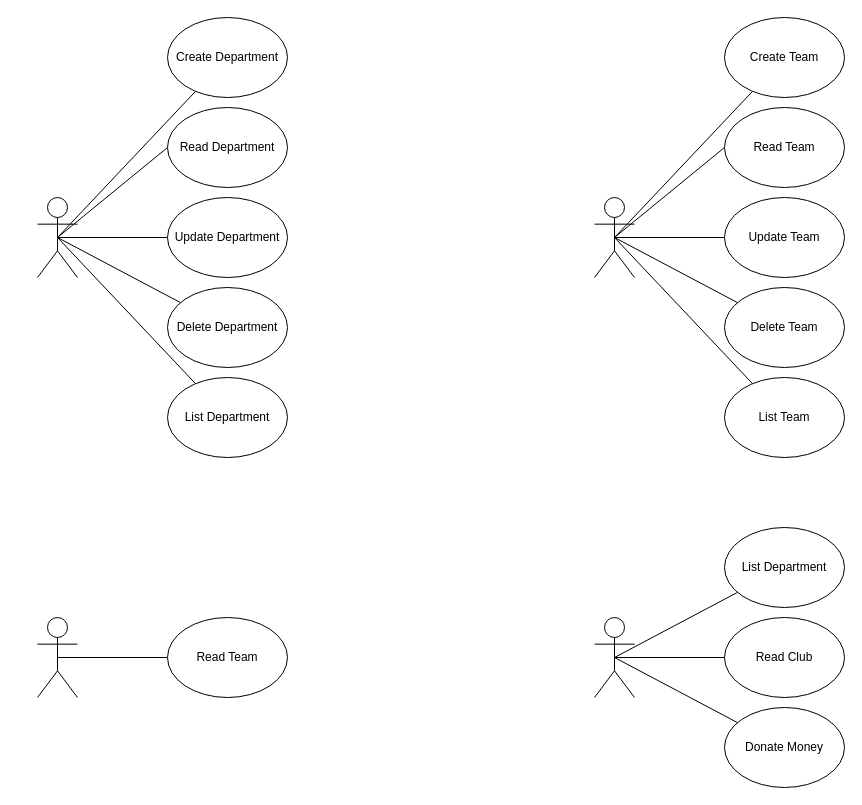
This 862x805 diagram has some shape labels left out. Here are the shapes that lost their labels. From the top down, the box of each, then its label:
(36, 196, 78, 278): Club Organizer
(594, 196, 634, 278): Team Organizer
(36, 616, 78, 698): Team Member
(594, 616, 634, 698): Club Member
